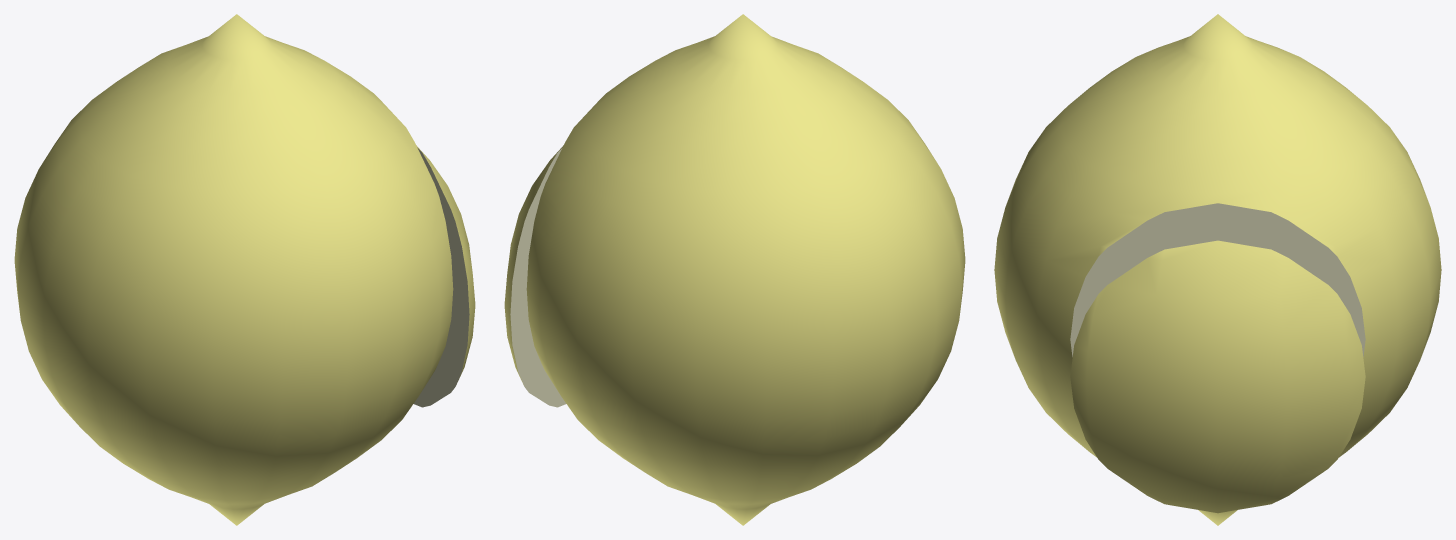
File: 2of6Onion.fbx
3 renders of one model, left to right at view 1: azimuth 30°, elevation 25°; view 2: azimuth 150°, elevation 25°; view 3: azimuth 270°, elevation 25°, orthographic.
Parts seen in each view (by area): view 1: pSphere1; view 2: pSphere1; view 3: pSphere1.
Boxes of the visible parts, left/top/right/bottom form: pSphere1: left=14, top=14, right=475, bottom=525; pSphere1: left=504, top=14, right=965, bottom=525; pSphere1: left=994, top=14, right=1441, bottom=525.
Size of the model in its own units: 2.08 by 2.53 by 2.
